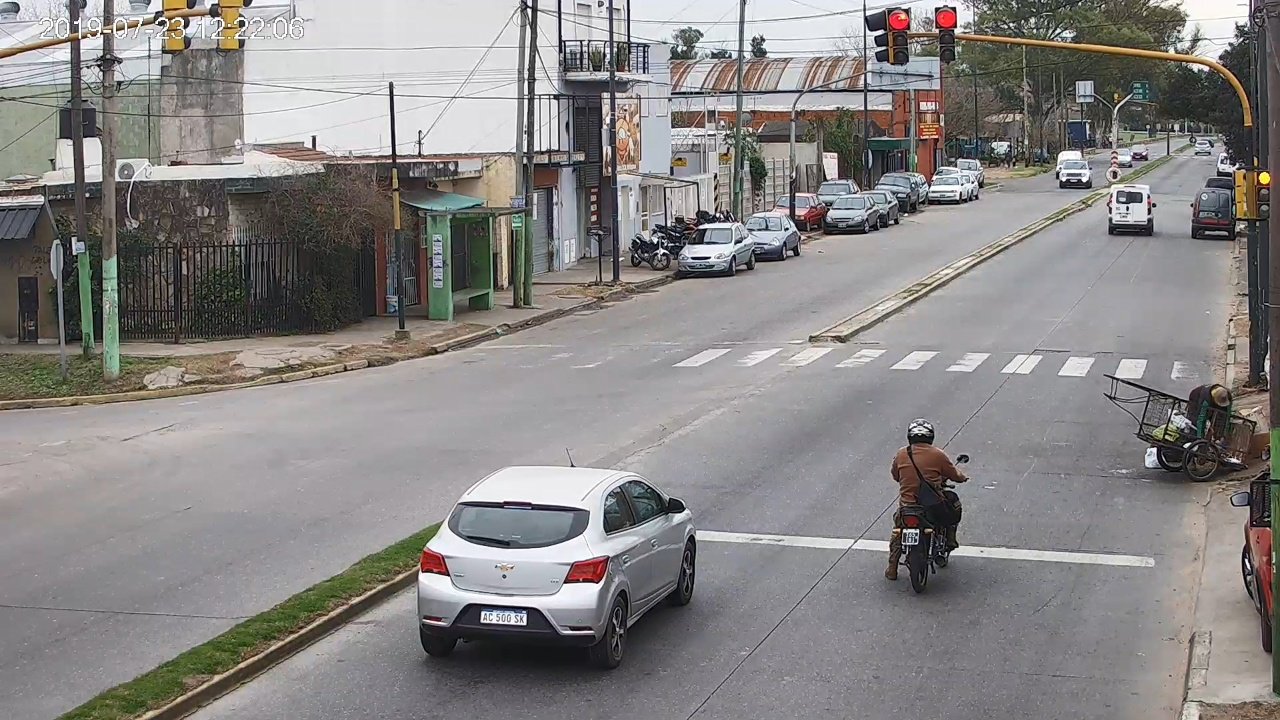car: (417, 466, 695, 667), (1108, 184, 1156, 235)
motorcycle: (885, 453, 970, 594)
traffic light: (937, 6, 957, 62), (890, 8, 909, 64), (1258, 169, 1270, 218)
